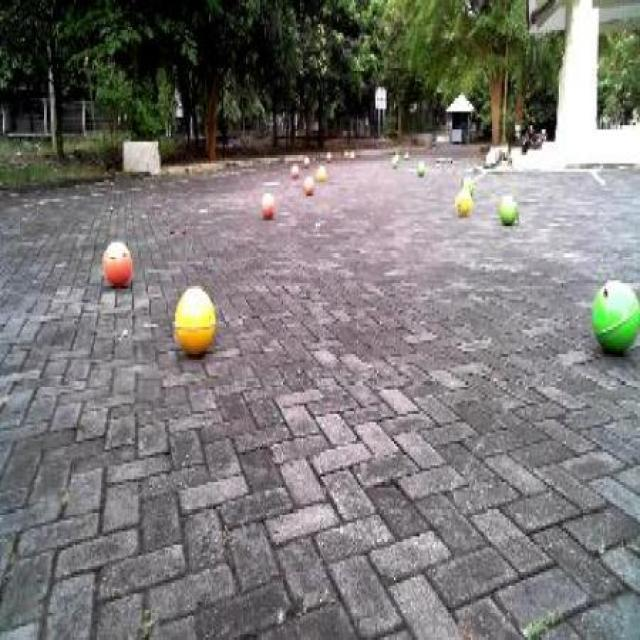buoy: (591, 266, 639, 358), (170, 276, 218, 364), (100, 232, 134, 294), (495, 185, 520, 226), (257, 188, 275, 218)
